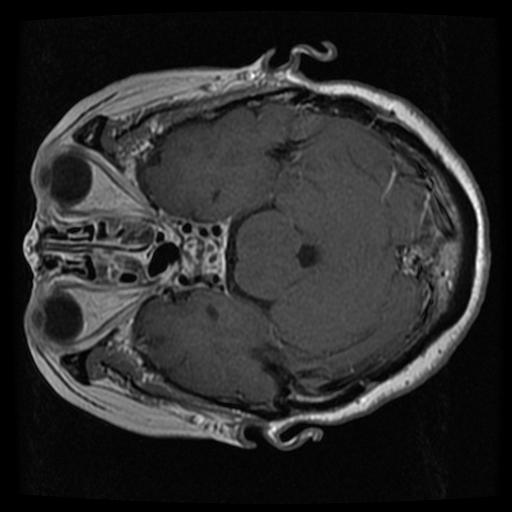pituitary tumour: (181, 237, 217, 277)
